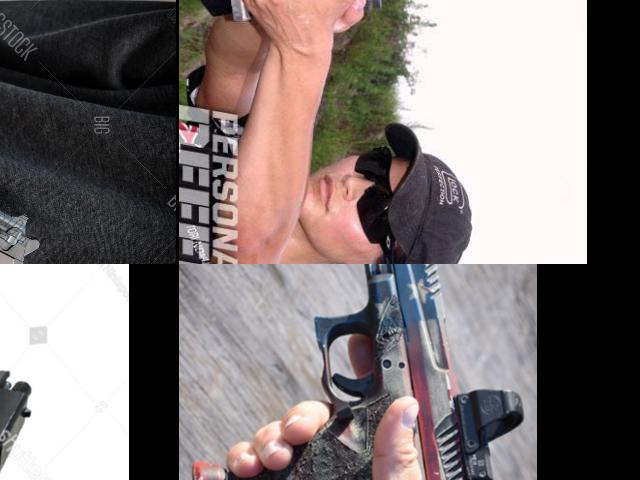handgun: (188, 264, 527, 480), (0, 363, 151, 480), (0, 116, 116, 264), (193, 0, 385, 86)
